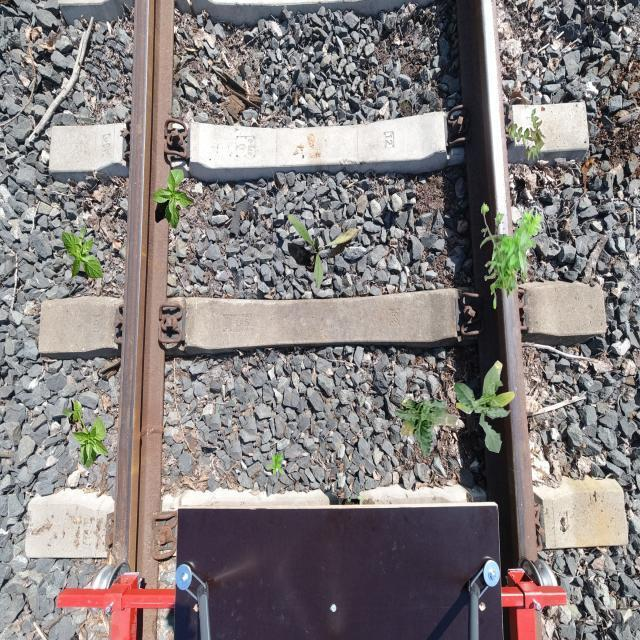Plant: (480, 202, 544, 310), (453, 360, 516, 453), (287, 214, 358, 288), (394, 398, 458, 460), (62, 398, 110, 469), (153, 169, 195, 229), (504, 108, 546, 162), (62, 227, 104, 280), (266, 452, 284, 476)
